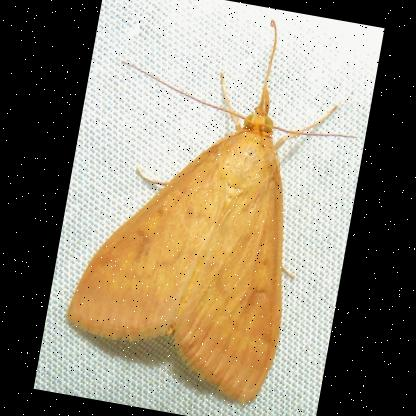Asian Corn Borer Moth: (52, 0, 377, 416)
